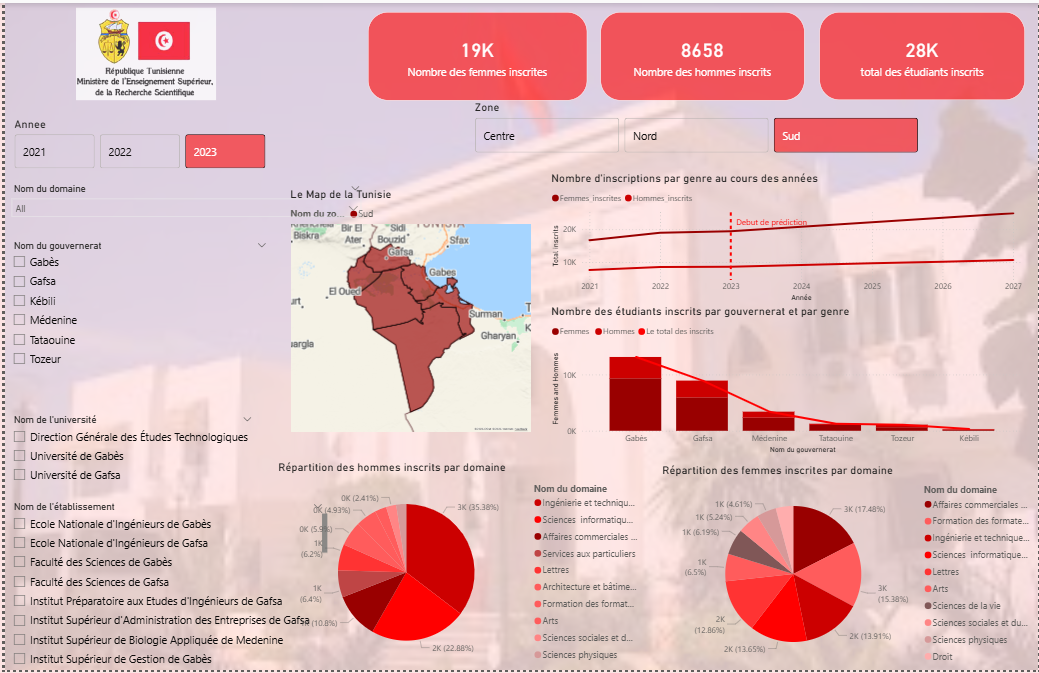

Layout of this report page (visuals, bound fields, positions):
{"tool":"powerbi","page":{"name":"Page 1","canvas":[1550,1000],"ordinal":0},"visuals":[{"type":"azureMap","title":"Le Map de la Tunisie","fields":{"Category":["DimGouvernerat.nom_gouvernerat"],"Series":["DimZone.nom_zone"]},"box":[422,276,370,372],"z":0},{"type":"slicer","fields":{"Values":["DimGouvernerat.nom_gouvernerat"]},"box":[0,350,404,262],"z":1000},{"type":"card","fields":{"Values":["Sum(factInscriptions.inscrits_f)"]},"box":[544.2,13.5,328.3,132.7],"z":2000},{"type":"card","fields":{"Values":["Sum(factInscriptions.inscrits_m)"]},"box":[892.8,13.5,305.9,132.7],"z":3000},{"type":"card","fields":{"Values":["Sum(factInscriptions.total_inscrits)"]},"box":[1222,14,308,132],"z":4000},{"type":"slicer","fields":{"Values":["DimUniversite.nom_universite"]},"box":[0,611.7,382.3,114.7],"z":5000},{"type":"slicer","fields":{"Values":["DimDomaine.nom_domaine"]},"box":[0,265.4,544.2,74.2],"z":6000},{"type":"slicer","fields":{"Values":["DimEtablissement.nom_etablissement"]},"box":[0,742.1,488,258.6],"z":7000},{"type":"lineStackedColumnComboChart","title":"Nombre des étudiants inscrits par gouvernerat et par genre","fields":{"Category":["DimGouvernerat.nom_gouvernerat"],"Y":["Sum(factInscriptions.inscrits_f)","Sum(factInscriptions.inscrits_m)"],"Y2":["Sum(factInscriptions.total_inscrits)"]},"box":[814,452,716,228],"z":8000},{"type":"pieChart","title":"Répartition des hommes inscrits par domaine","fields":{"Category":["DimDomaine.nom_domaine"],"Y":["Sum(factInscriptions.inscrits_m)"]},"box":[404,686,558,314],"z":9000},{"type":"pieChart","title":"Répartition des femmes inscrites par domaine","fields":{"Y":["Sum(factInscriptions.inscrits_f)"],"Category":["DimDomaine.nom_domaine"]},"box":[980,690,570,310],"z":10000},{"type":"image","box":[40.5,6.7,341.8,139.4],"z":11000},{"type":"advancedSlicerVisual","fields":{"Values":["DimZone.nom_zone"]},"box":[699.4,146.2,676.9,83.2],"z":12000},{"type":"advancedSlicerVisual","fields":{"Values":["DimTemps.annee"]},"box":[8,170,386,82],"z":13000},{"type":"lineChart","title":"Nombre d''inscriptions par genre au cours des années","fields":{"Category":["Annees_Projection.Année"],"Y":["Annees_Projection.Forecast_Femmes","Annees_Projection.Forecast_Hommes"]},"box":[814.1,251.9,715.2,200.2],"z":14000}]}

Visuals, with their boxes in screenshot pixels (x1, y1, x2, y2), scaled from the page's 1550x1000 canvas onto the 1039x673 screenshot:
"Le Map de la Tunisie" azureMap: (left=283, top=186, right=531, bottom=436)
slicer - DimGouvernerat.nom_gouvernerat: (left=0, top=236, right=271, bottom=412)
card - Sum(factInscriptions.inscrits_f): (left=365, top=9, right=585, bottom=98)
card - Sum(factInscriptions.inscrits_m): (left=598, top=9, right=804, bottom=98)
card - Sum(factInscriptions.total_inscrits): (left=819, top=9, right=1026, bottom=98)
slicer - DimUniversite.nom_universite: (left=0, top=412, right=256, bottom=489)
slicer - DimDomaine.nom_domaine: (left=0, top=179, right=365, bottom=229)
slicer - DimEtablissement.nom_etablissement: (left=0, top=499, right=327, bottom=672)
"Nombre des étudiants inscrits par gouvernerat et par genre" lineStackedColumnComboChart: (left=546, top=304, right=1026, bottom=458)
"Répartition des hommes inscrits par domaine" pieChart: (left=271, top=462, right=645, bottom=672)
"Répartition des femmes inscrites par domaine" pieChart: (left=657, top=464, right=1038, bottom=672)
image: (left=27, top=5, right=256, bottom=98)
advancedSlicerVisual - DimZone.nom_zone: (left=469, top=98, right=923, bottom=154)
advancedSlicerVisual - DimTemps.annee: (left=5, top=114, right=264, bottom=170)
"Nombre d''inscriptions par genre au cours des années" lineChart: (left=546, top=170, right=1025, bottom=304)
